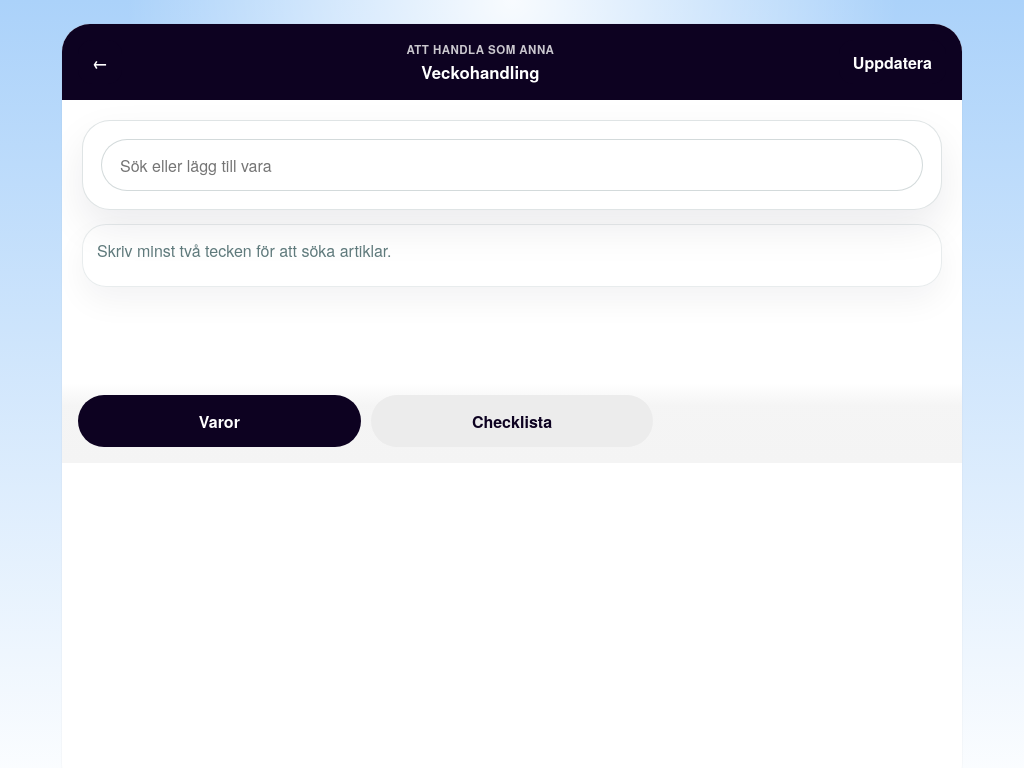
ShoppingListDetailPage › debounces manual search adds after the last change
Check: the text "Veckohandling" is shown, box [421,60,540,84]
Step 1. Type "Födelsedagsljus" into the field named "Sök artikel" → (512, 165), box [101,139,923,191]
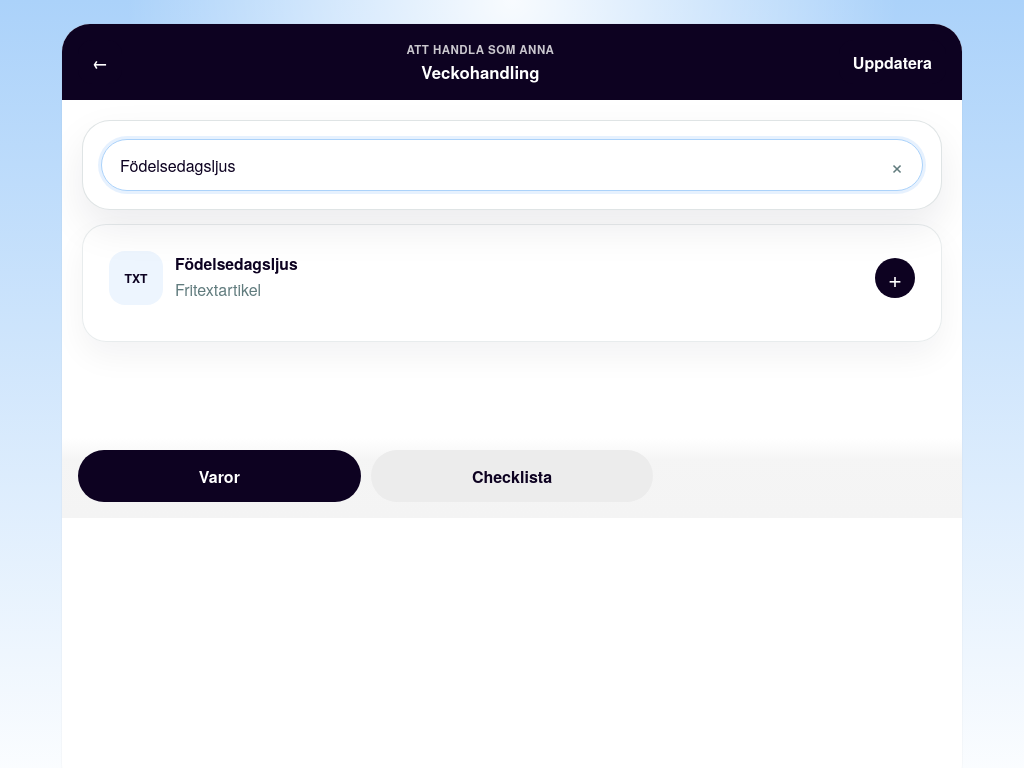
Step 2. Click the button named "Lägg till Födelsedagsljus" → (895, 278), box [875,258,915,298]
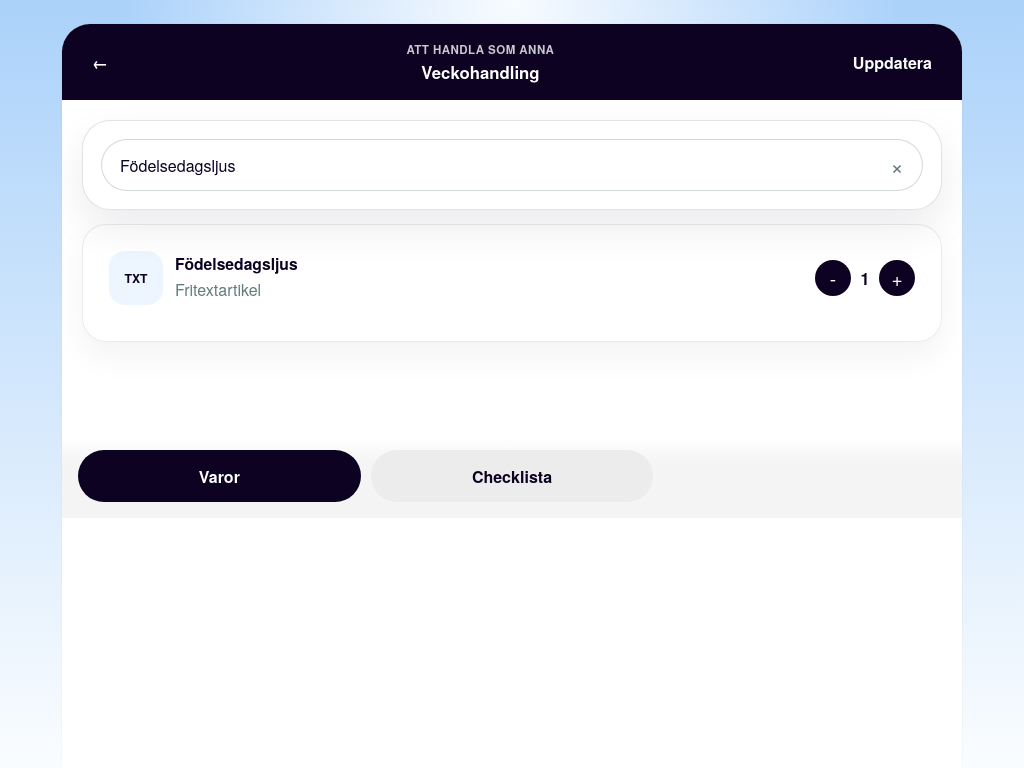
Step 3. Click the button named "Öka Födelsedagsljus" → (897, 278), box [879,260,915,296]
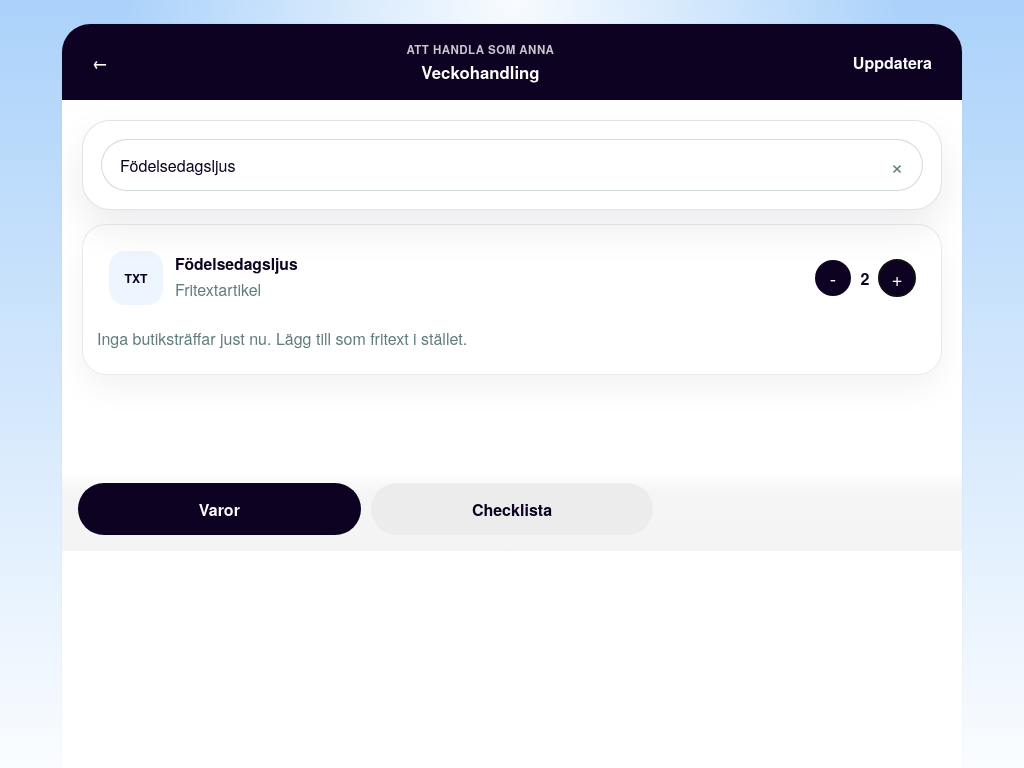
Step 4. Click the button named "Öka Födelsedagsljus" → (897, 278), box [879,260,915,296]
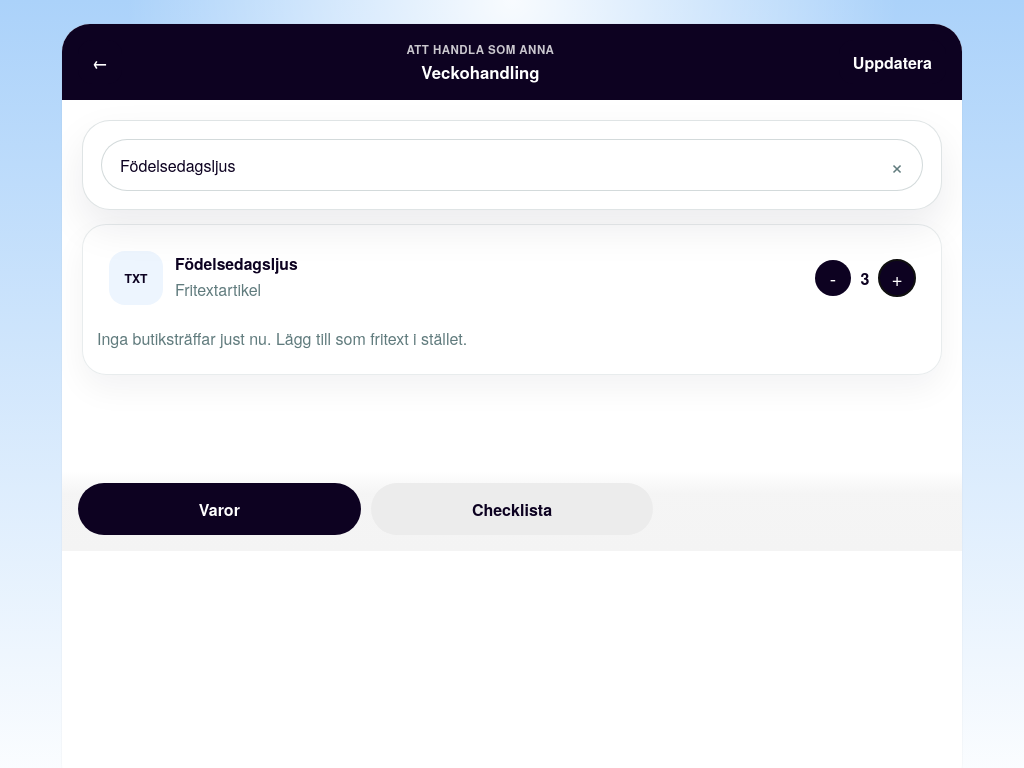
Check: the element named "Antal för Födelsedagsljus" shows "3", box [860,266,869,290]
